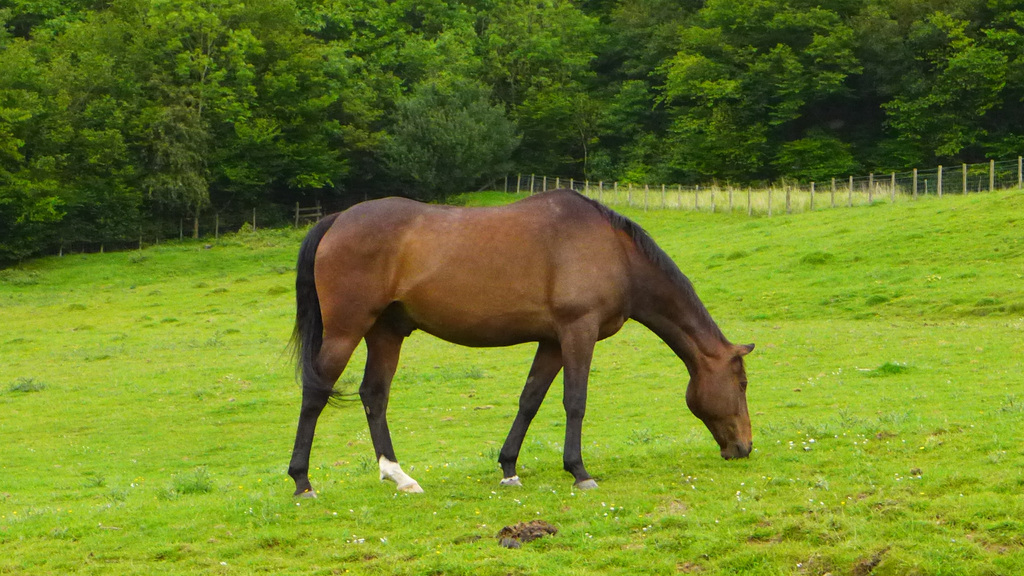horse: (279, 188, 753, 496)
